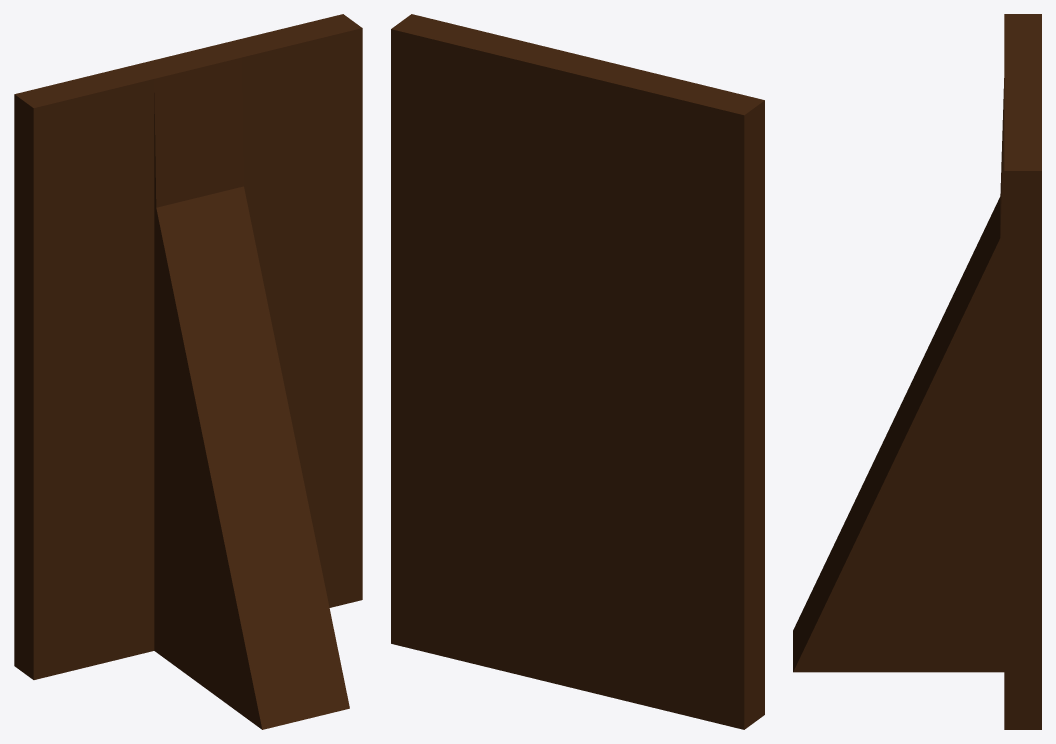
Rendered from BookStand.FBX.
3 renders of one model, left to right at view 1: azimuth 30°, elevation 25°; view 2: azimuth 150°, elevation 25°; view 3: azimuth 270°, elevation 25°, orthographic. The views are drawn at different scales.
Visible parts, largest first — view 1: Bookstop; view 2: Bookstop; view 3: Bookstop.
Boxes of the visible parts, bbox=[...] form: Bookstop: bbox=[14, 14, 362, 729]; Bookstop: bbox=[391, 14, 764, 729]; Bookstop: bbox=[793, 14, 1041, 729].
Bounding box in the file's own units: 4 × 6.65 × 2.68.
